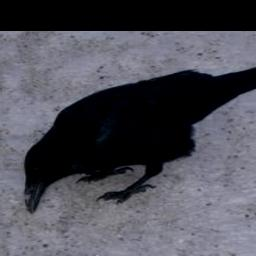Crow: (25, 64, 256, 213)
